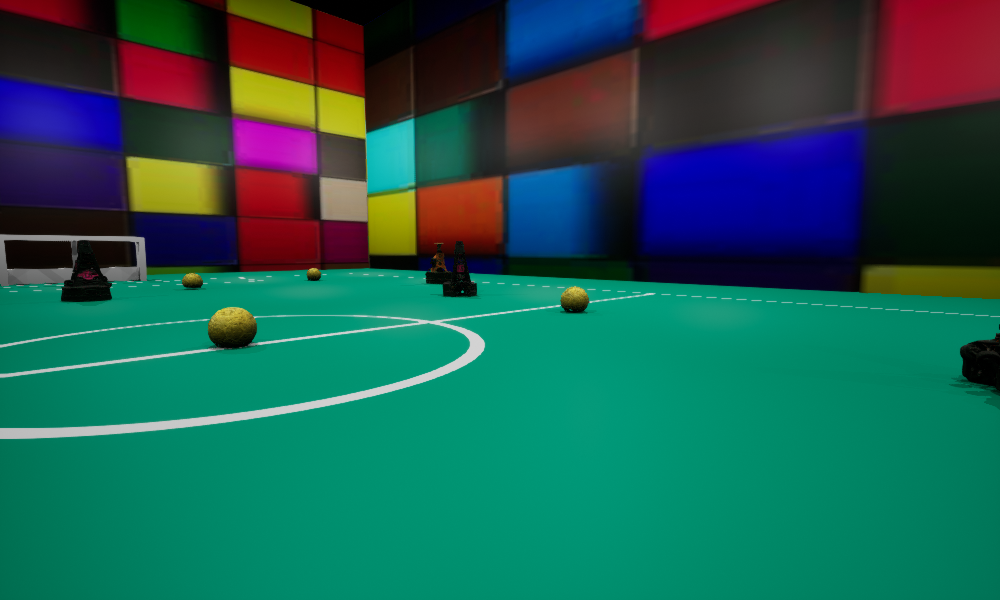b: (208, 307, 256, 347), (560, 286, 588, 310), (182, 273, 202, 287), (306, 268, 320, 279)
o: (425, 243, 451, 283)
p1: (61, 240, 111, 301), (443, 241, 476, 296)
p2: (960, 324, 999, 390)
